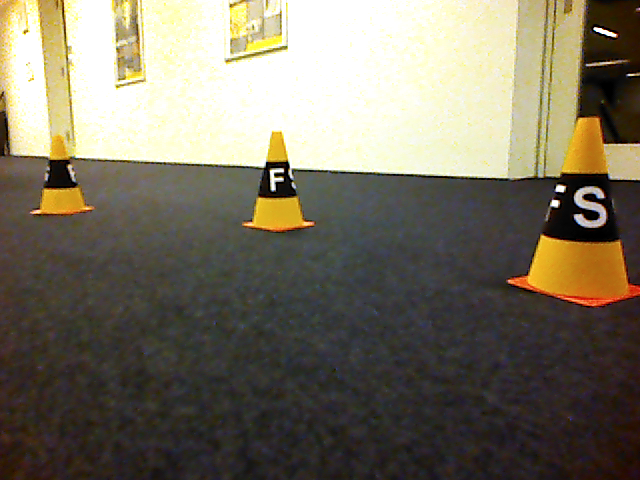yellowcone: (505, 116, 640, 308), (239, 131, 317, 233), (29, 134, 96, 216)
